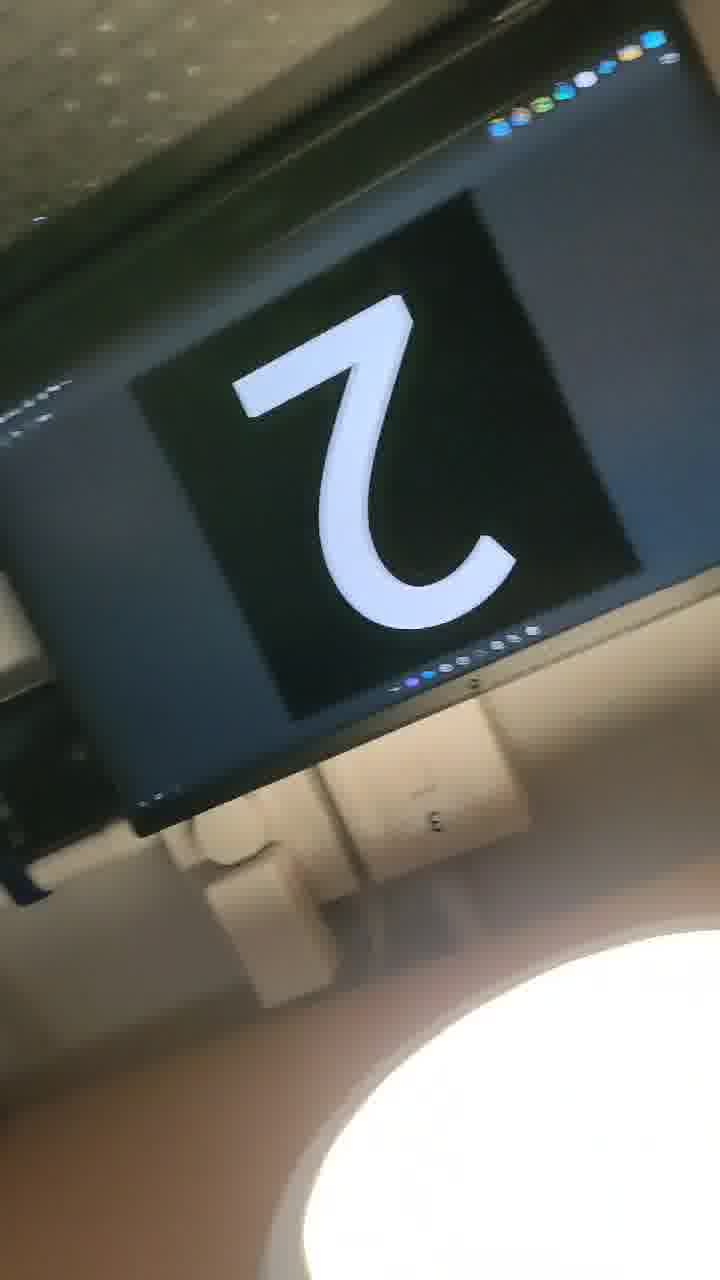two: (207, 254, 589, 686)
